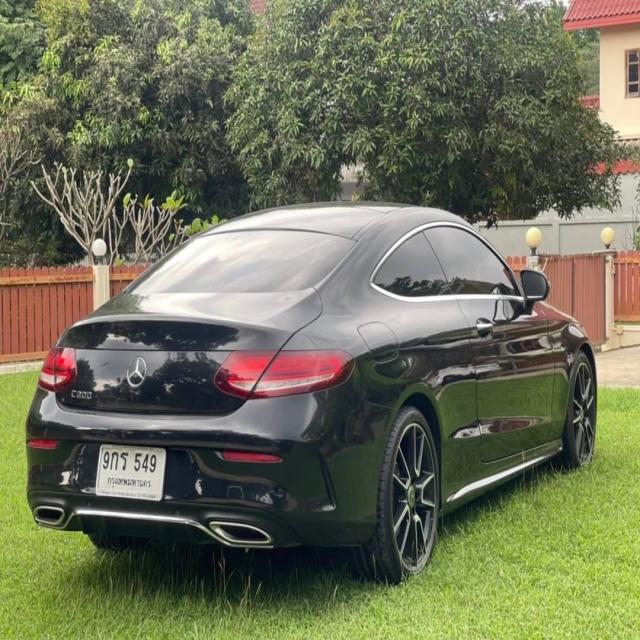license_plate: (94, 440, 166, 502)
